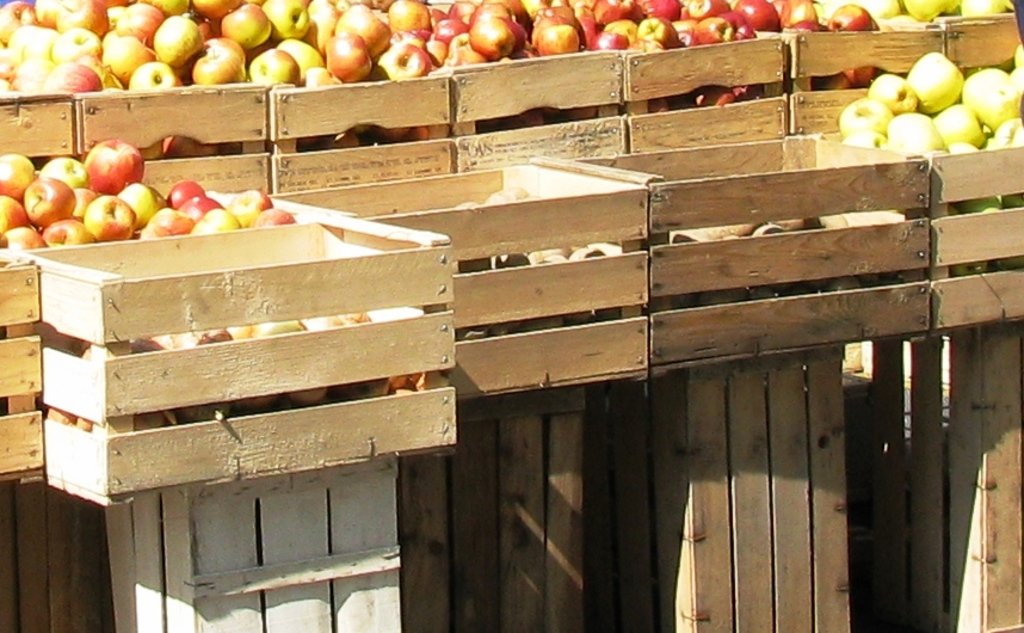Apple: (0, 0, 1022, 155), (0, 134, 298, 243), (837, 47, 1022, 213), (82, 191, 137, 244)
